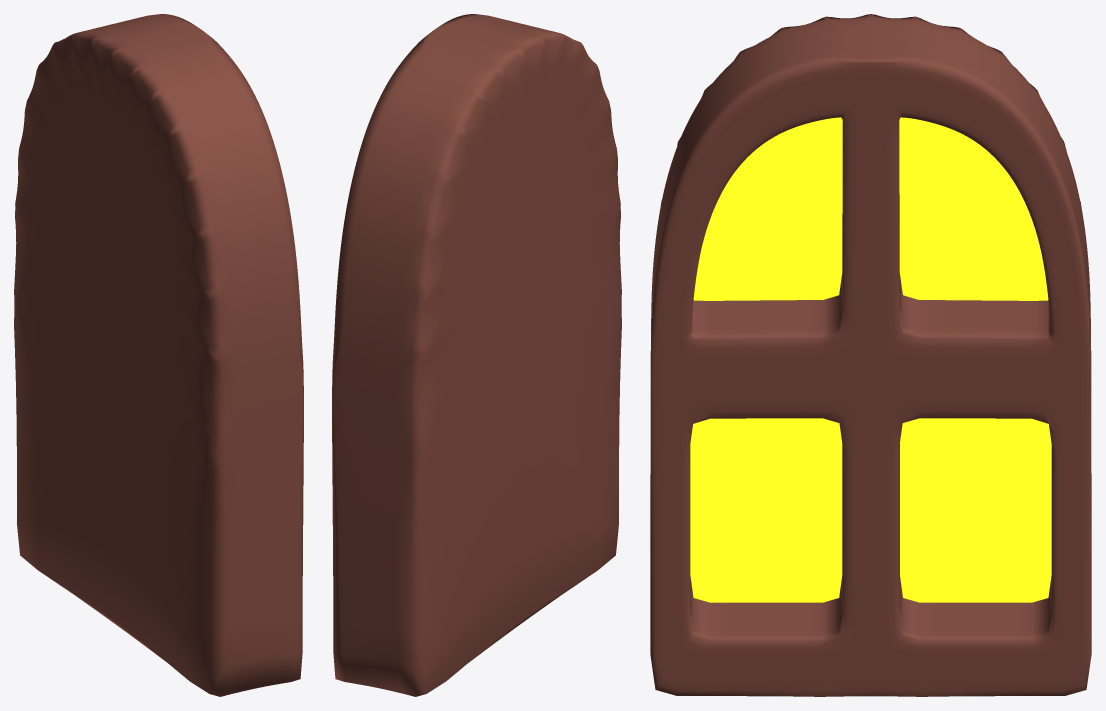
The model's file is Window.fbx.
3 renders of one model, left to right at view 1: azimuth 30°, elevation 25°; view 2: azimuth 150°, elevation 25°; view 3: azimuth 270°, elevation 25°, orthographic. The views are drawn at different scales.
Visible parts, largest first — view 1: Cube.006; view 2: Cube.006; view 3: Cube.006.
Part boxes in pixels (x1=…): Cube.006: x1=14, y1=14, x2=303, y2=696; Cube.006: x1=332, y1=14, x2=621, y2=696; Cube.006: x1=650, y1=14, x2=1091, y2=696.
Size of the model in its own units: 15 by 90.9 by 57.04.
